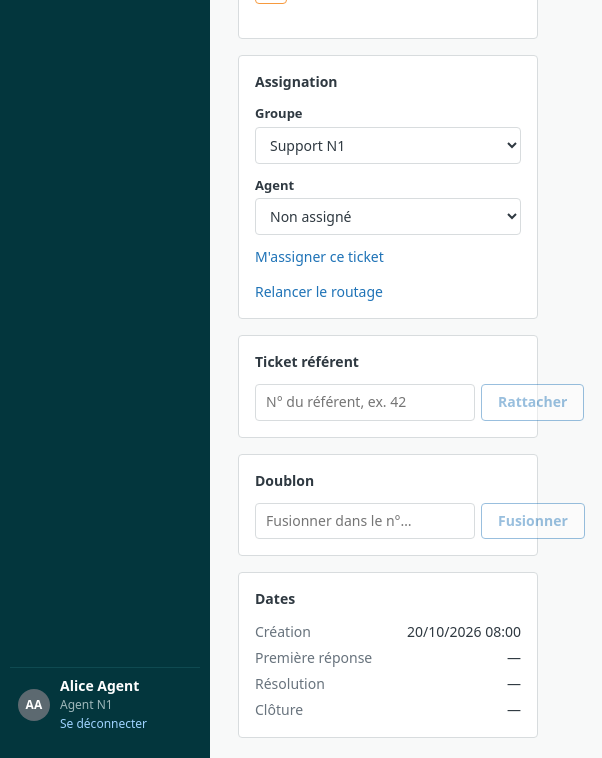
ticket : SLA, groupe, référent › rattache le ticket à un référent par son numéro
(page scrolled)
Type "#7" into the field named "Numéro du ticket référent".
click(365, 403); type("#7")  # box [255,384,475,421]
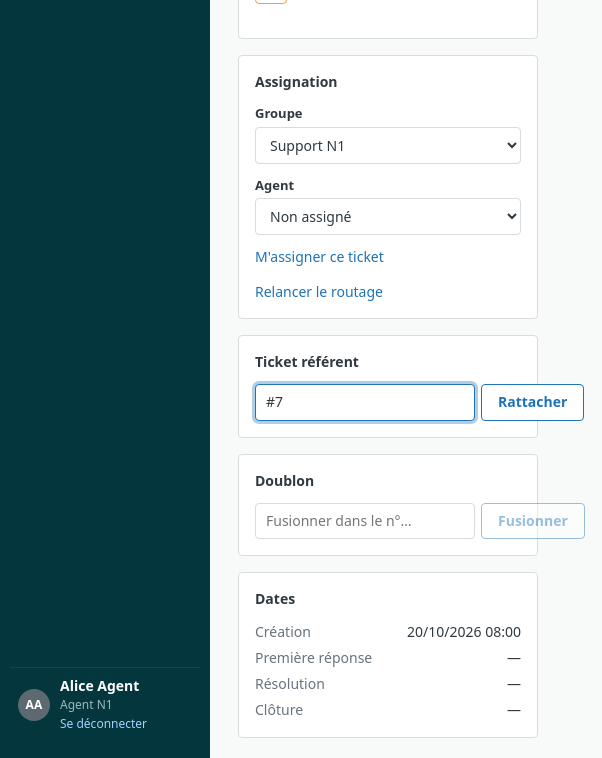
Click the button "Rattacher".
click(533, 403)  # box [481,384,584,421]
(page scrolled)
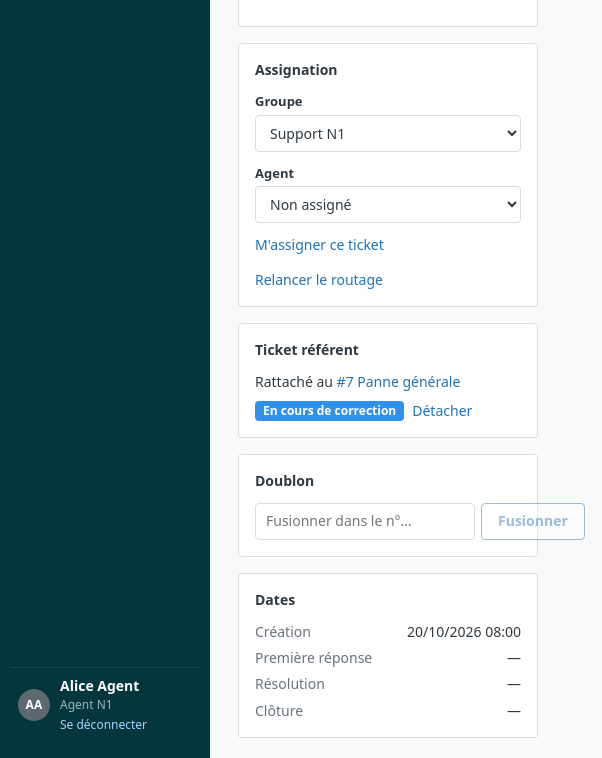
Expected: the link "#7 Panne générale" is shown, [337,372,460,391]
Expected: the button "Détacher" is shown, [412,401,472,421]
